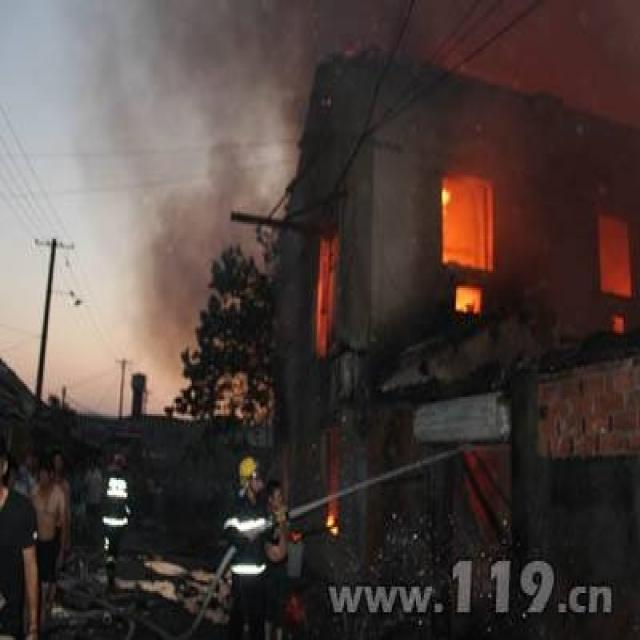fire: (430, 164, 506, 324), (590, 207, 636, 331), (320, 508, 341, 535)
